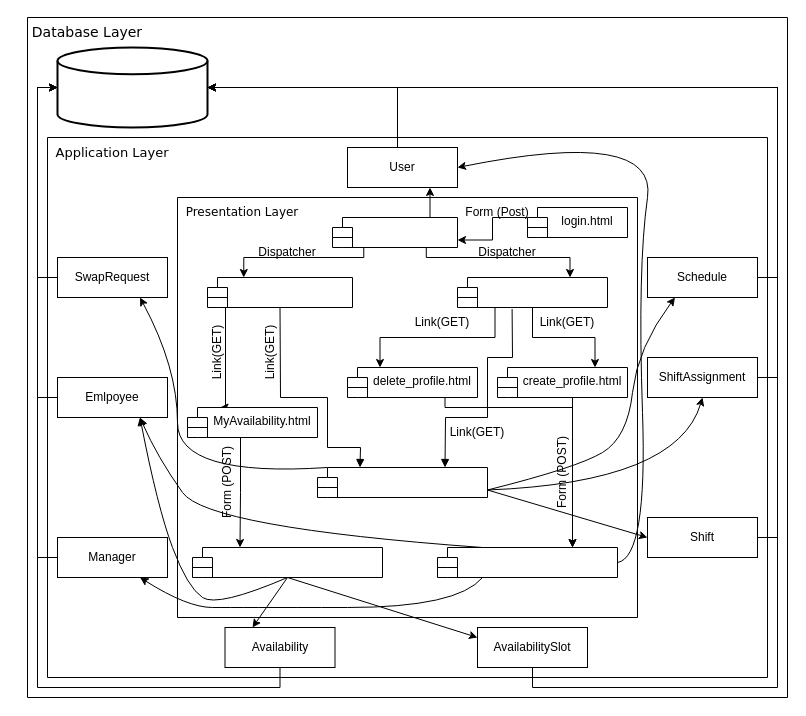
This 806x716 diagram has some shape labels left out. The centre of each missing label's shape, as x and y in pixels:
"employee_home.html" belongs at point 279,292.
"LoginServlet.java" belongs at point 395,232.
"ManageProfileServlet.java" belongs at point 527,562.
"manager_home.html" belongs at point 532,292.
"OptiShiftDB" belongs at point 132,87.
"SubmitAvailbalitityServlet.java" belongs at point 287,562.
"ViewScheduleServlet.java" belongs at point 402,482.
